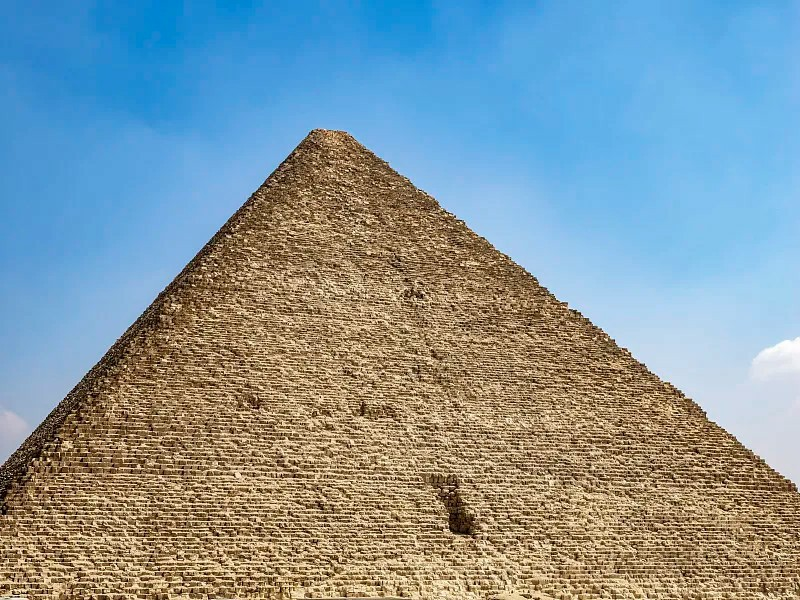Pyramid: (1, 128, 800, 600)
